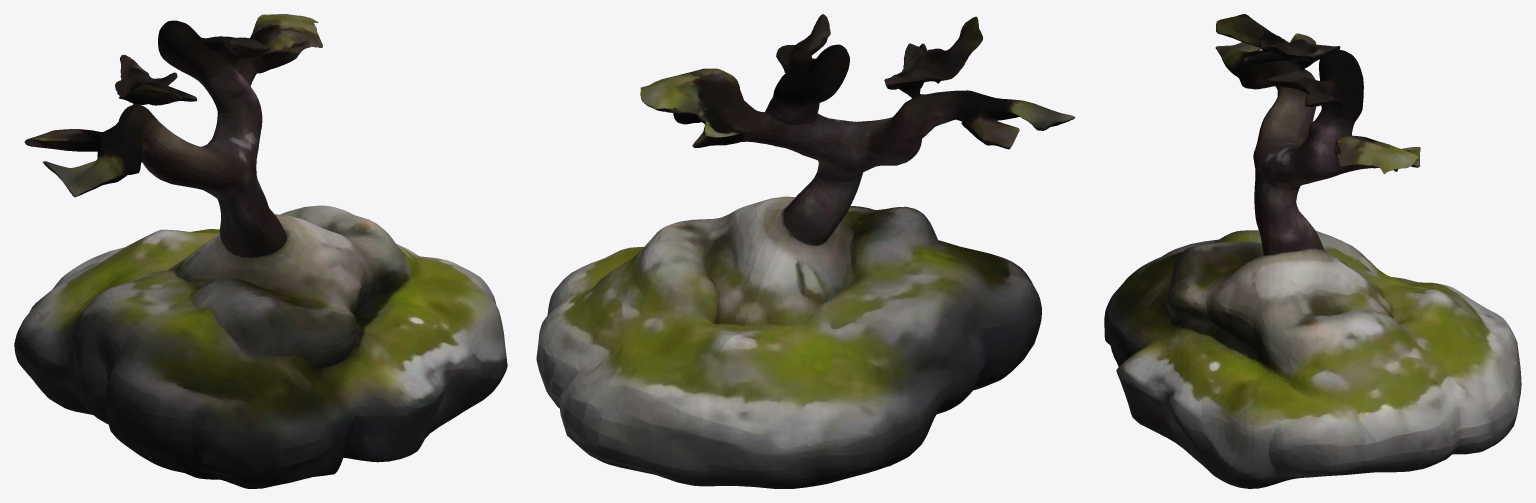
The model's file is prop_amatsu_sakura.fbx.
3 views of the same model, side by side, from view 1: azimuth 30°, elevation 25°; view 2: azimuth 150°, elevation 25°; view 3: azimuth 270°, elevation 25° (orthographic). The views are drawn at different scales.
Visible parts, largest first — view 1: geometry_0; view 2: geometry_0; view 3: geometry_0.
Boxes of the visible parts, x1,y1,x2,y2 form: geometry_0: [14, 14, 507, 488]; geometry_0: [536, 14, 1075, 488]; geometry_0: [1104, 14, 1521, 488].
Bounding box in the file's own units: 0.9958 × 0.8049 × 0.9035.
